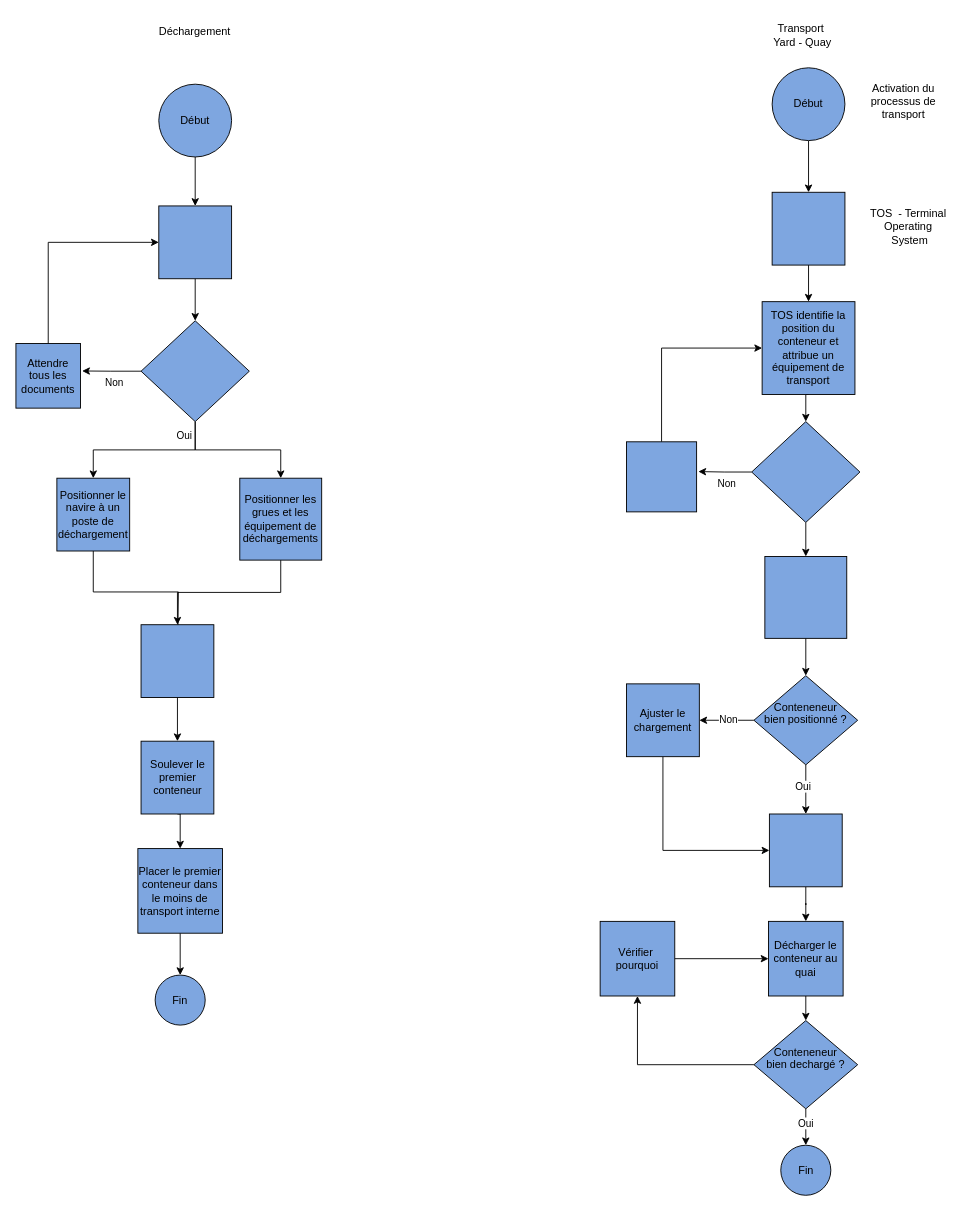
The diagram is 973 pixels wide and 1211 high, and some of its shapes have lost their labels. Each missing label, with the centre of its shape:
"Attendre l'équipement" belongs at (661,476).
"Documents complets ?" belongs at (194,371).
"Effectuer un contrôle de sécurité des équipements" belongs at (177,661).
"Envoyer une demande de transport au TOS" belongs at (808,228).
"Le conteneur est soulevé par une grue et positionner sur le véhicule" belongs at (805,597).
"Transporter le conteneur vers le quai" belongs at (805,850).
"Vérifier les documents" belongs at (195,242).
"Équipement disponible ?" belongs at (805,471).
